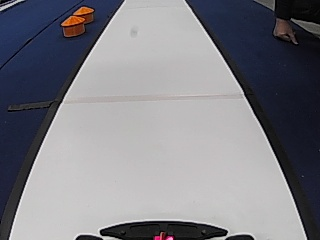granary: (60, 13, 84, 38), (73, 6, 93, 24)
